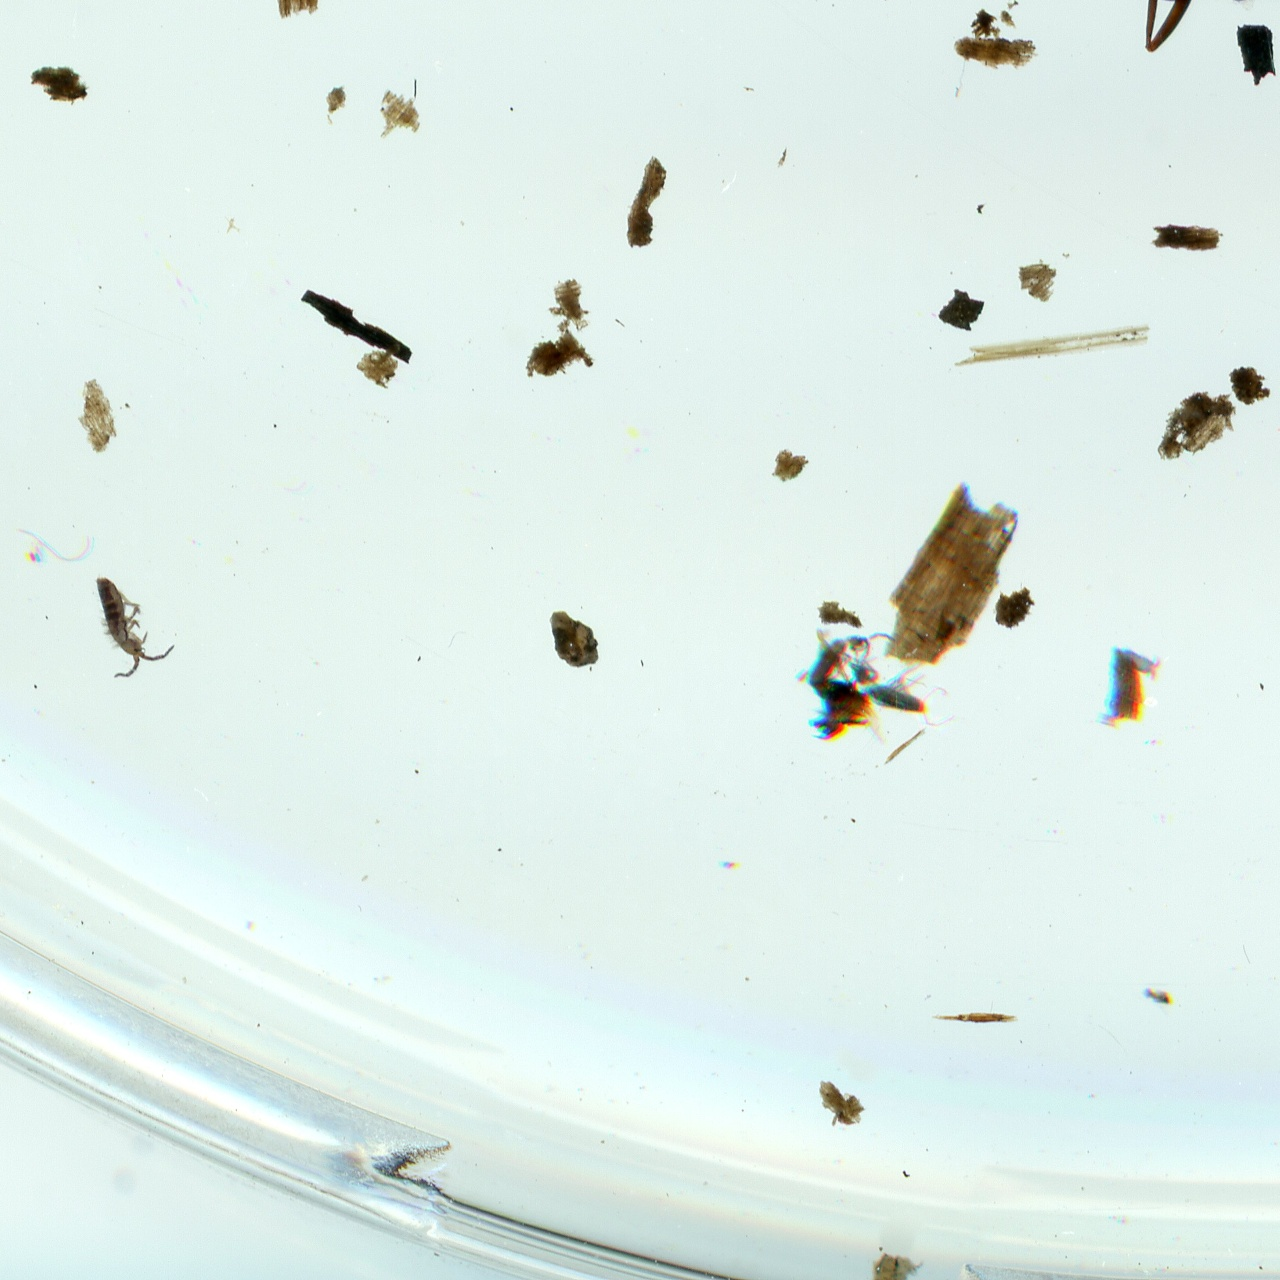arthropod: (62, 546, 190, 695), (1082, 0, 1280, 61), (840, 642, 940, 723), (797, 621, 905, 693), (1116, 640, 1166, 683)
